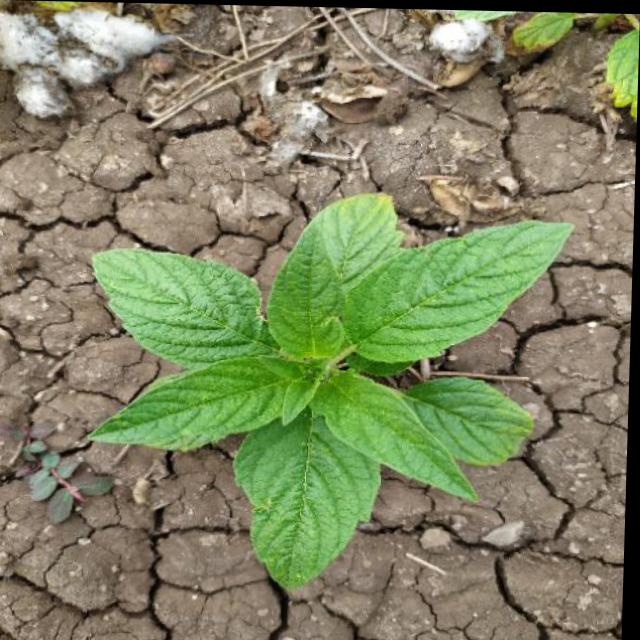crop: (70, 185, 556, 601)
